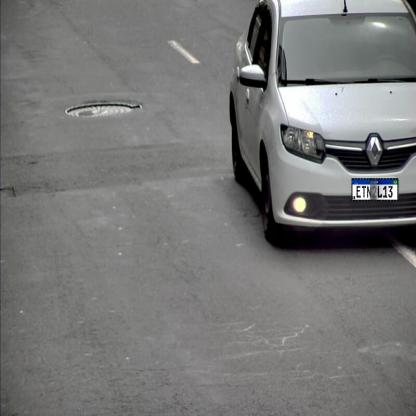PlacaM: (352, 178, 398, 201)
